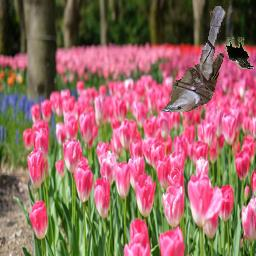Crow: (224, 37, 254, 69)
Cuckoo: (160, 6, 226, 112)
